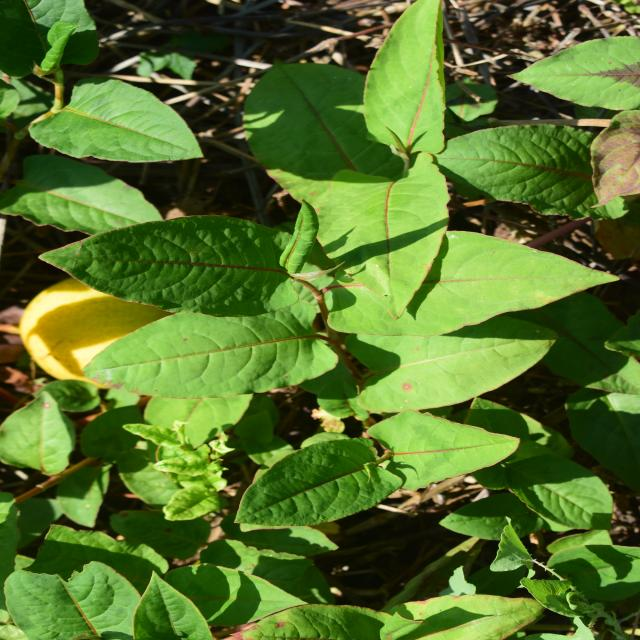Chinese_knotweed: (193, 66, 465, 556)
